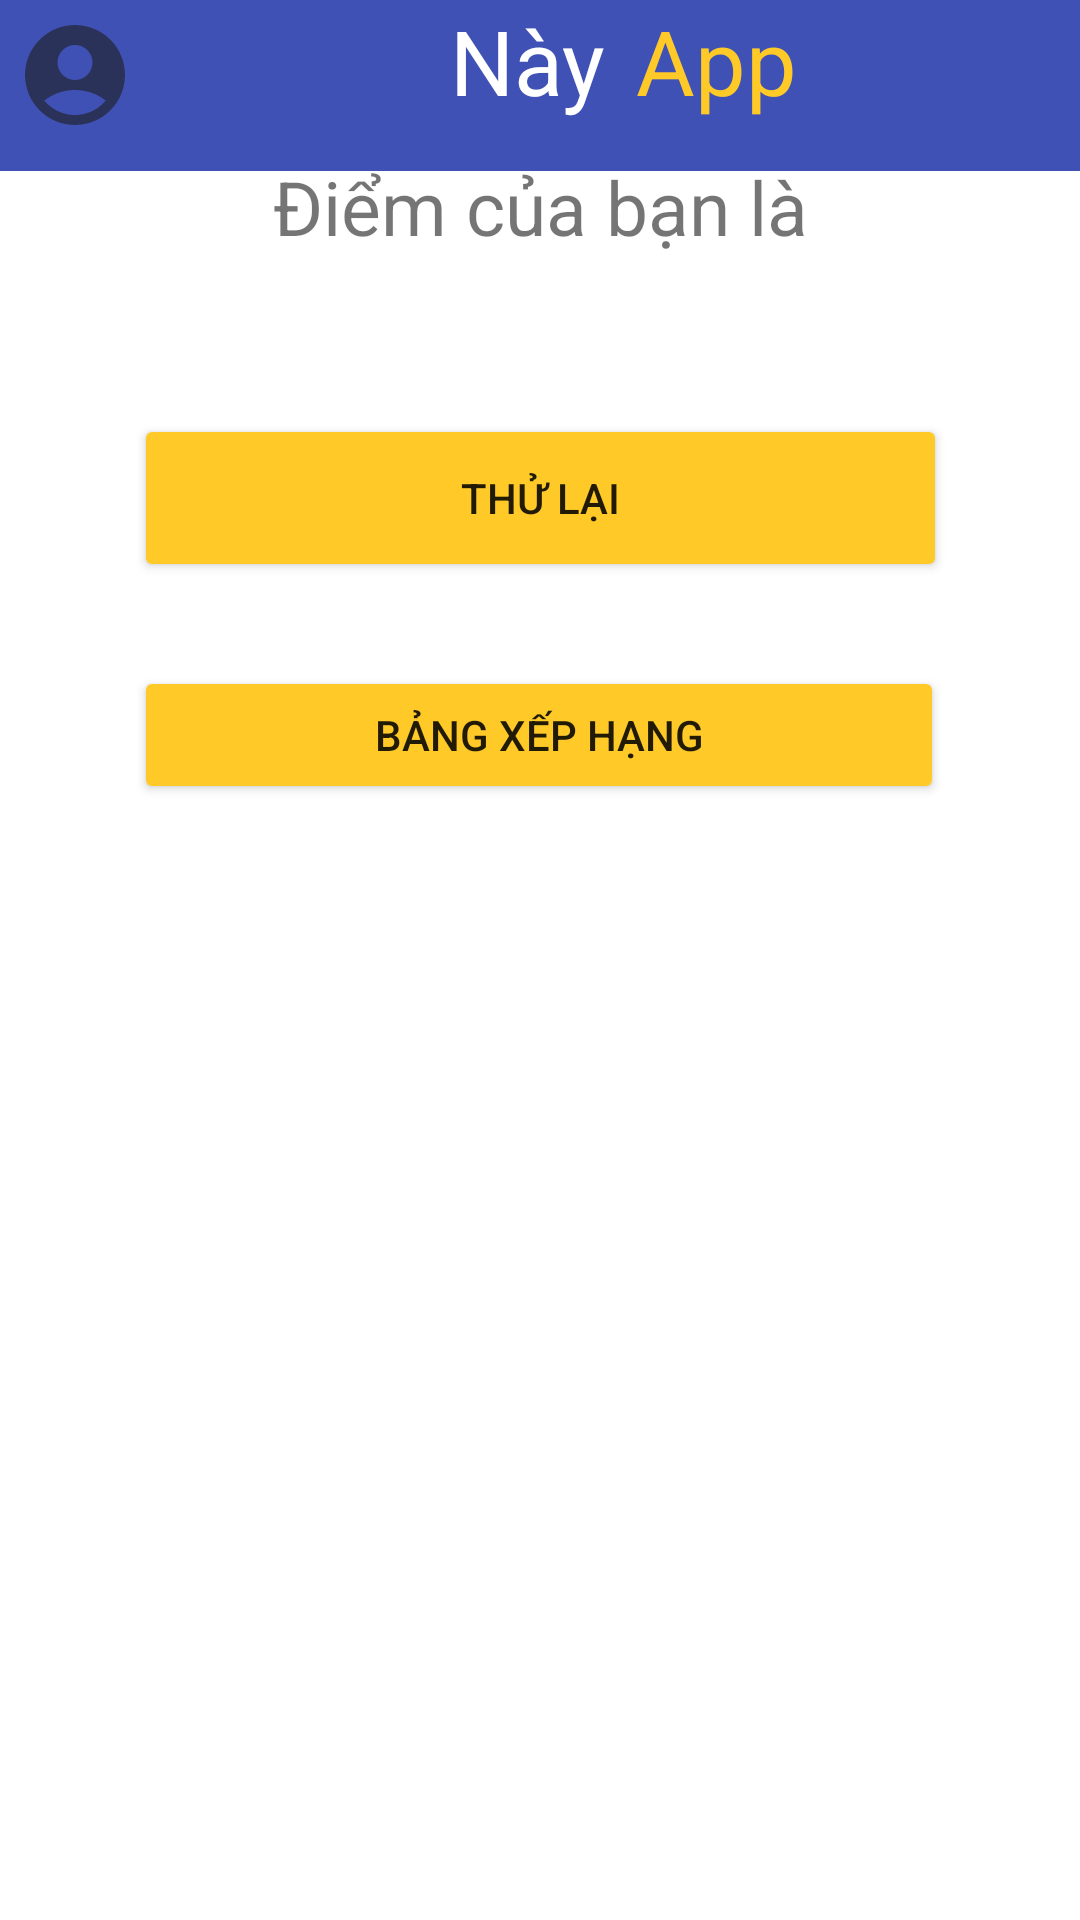

Named icons in this screenshot (1080px x 1920px) and their centers, point (x, y):
account: point (75, 75)
